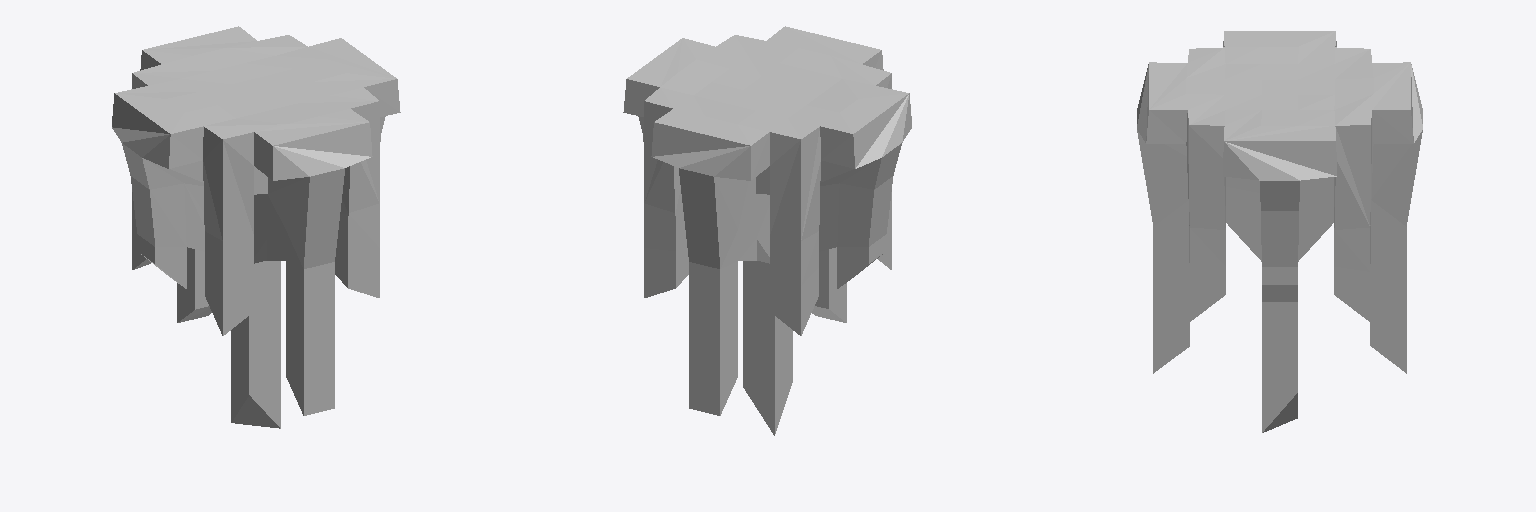
File: Bot1-2.obj
The picture shows the model from 3 angles: view 1: azimuth 30°, elevation 25°; view 2: azimuth 150°, elevation 25°; view 3: azimuth 270°, elevation 25°; orthographic projection.
Parts seen in each view (by area): view 1: Bot1-2.001; view 2: Bot1-2.001; view 3: Bot1-2.001.
Boxes of the visible parts, x1=… form: Bot1-2.001: x1=112, y1=26, x2=400, y2=428; Bot1-2.001: x1=623, y1=26, x2=911, y2=435; Bot1-2.001: x1=1137, y1=31, x2=1422, y2=432.
Bounding box in the file's own units: 0.792 × 1.04 × 0.792.